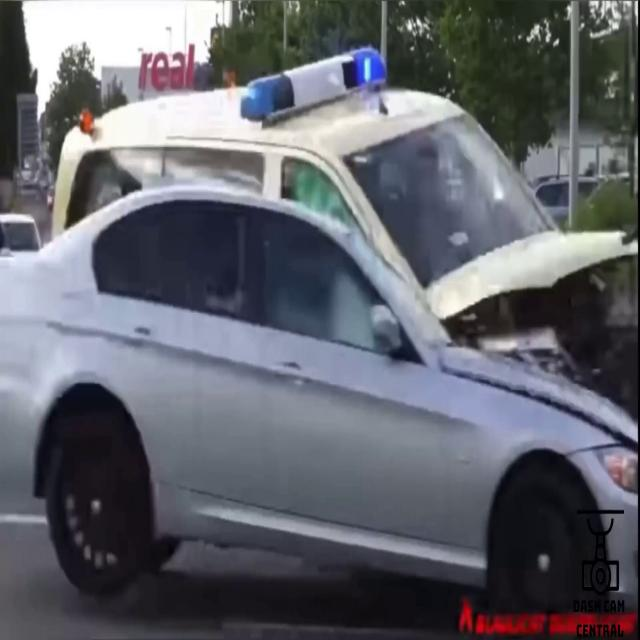accident: (8, 62, 638, 596)
